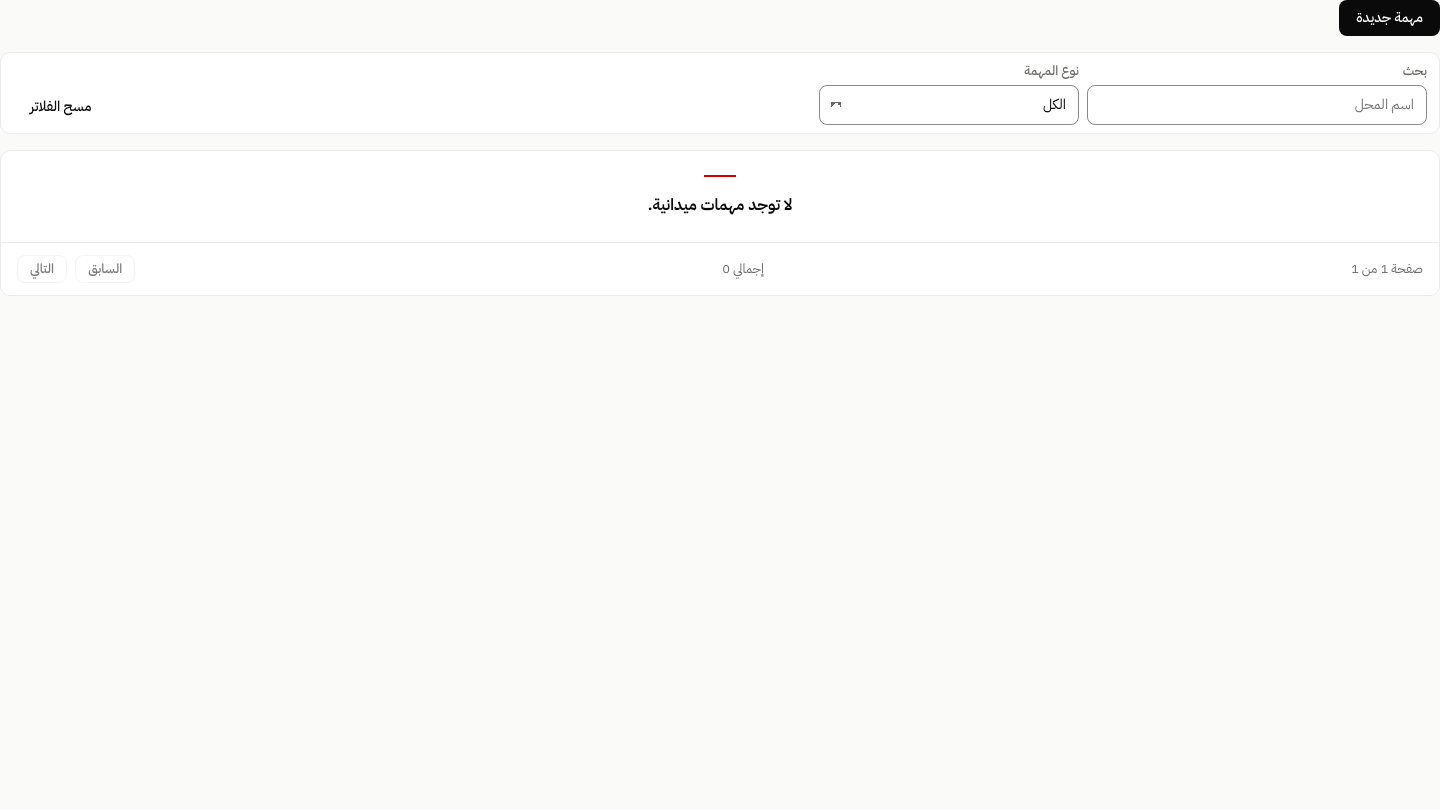
Scenario: field missions › asks for a priority and can address the governorate office
Click the button "مهمة جديدة". click: (1390, 18)
box: [1339, 0, 1439, 36]
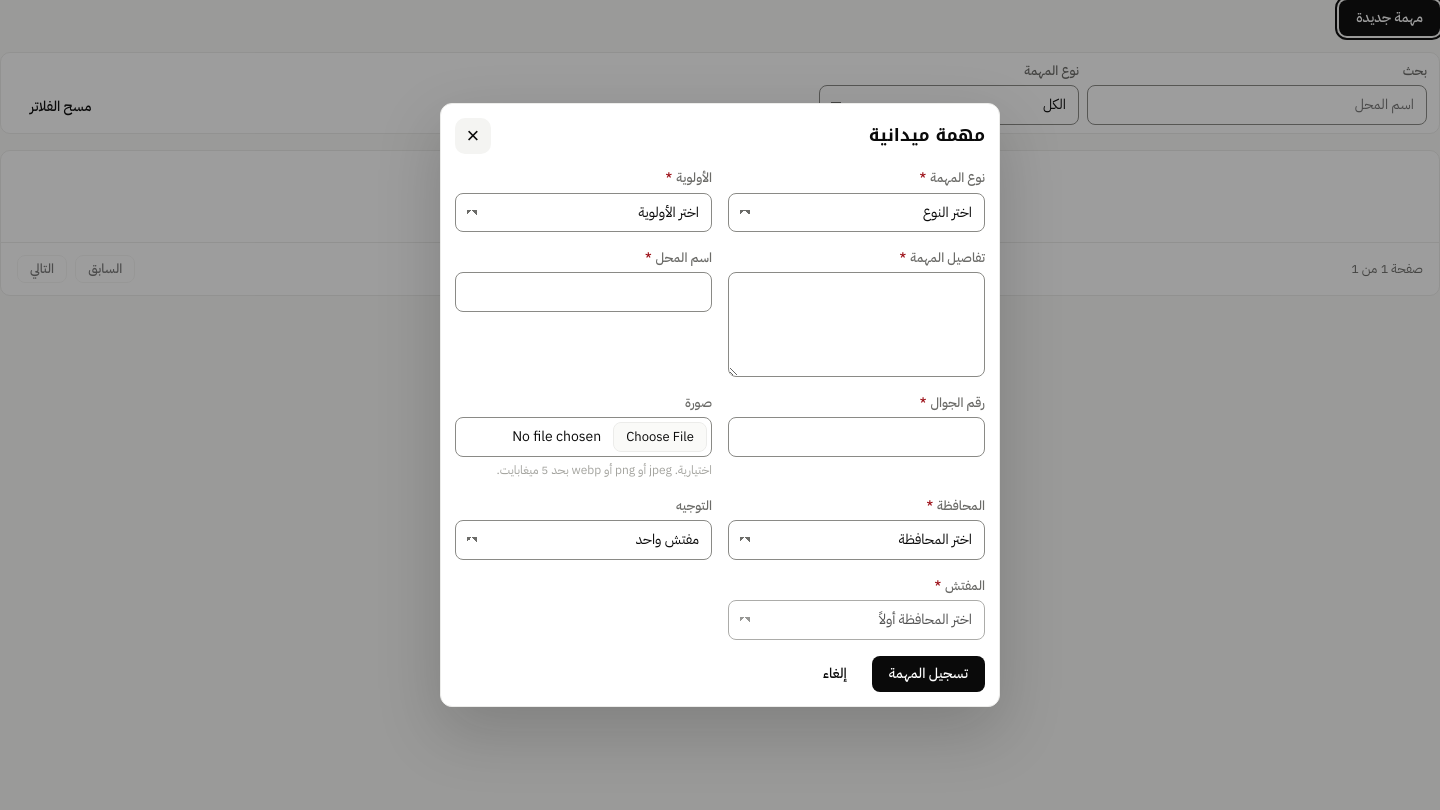
Expected: the dropdown labelled "الأولوية*" is shown, [455, 192, 712, 232]
